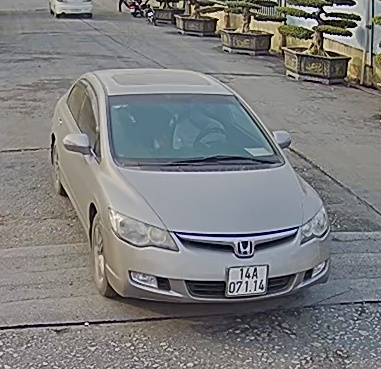vehicle plate: (223, 265, 267, 298)
